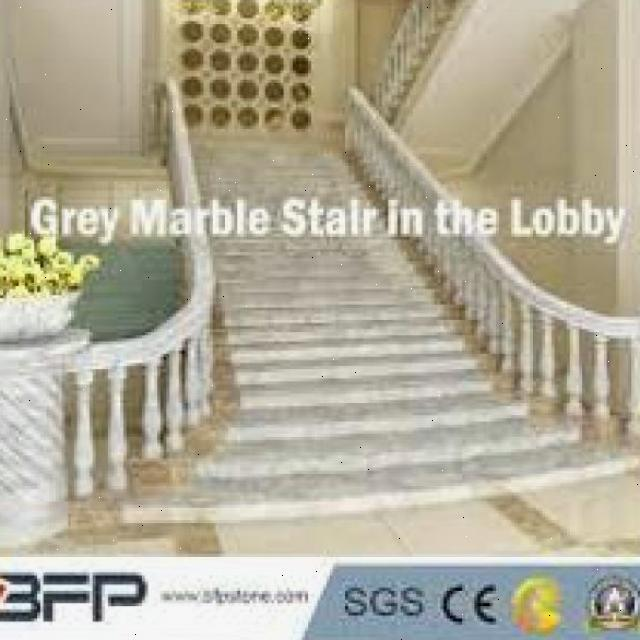stair: (200, 301, 604, 489)
